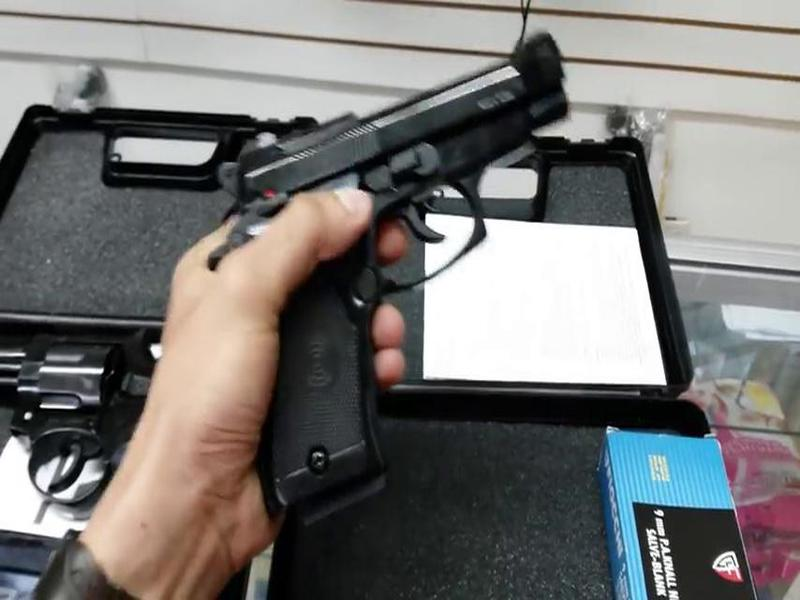Pistola: (227, 23, 614, 538)
